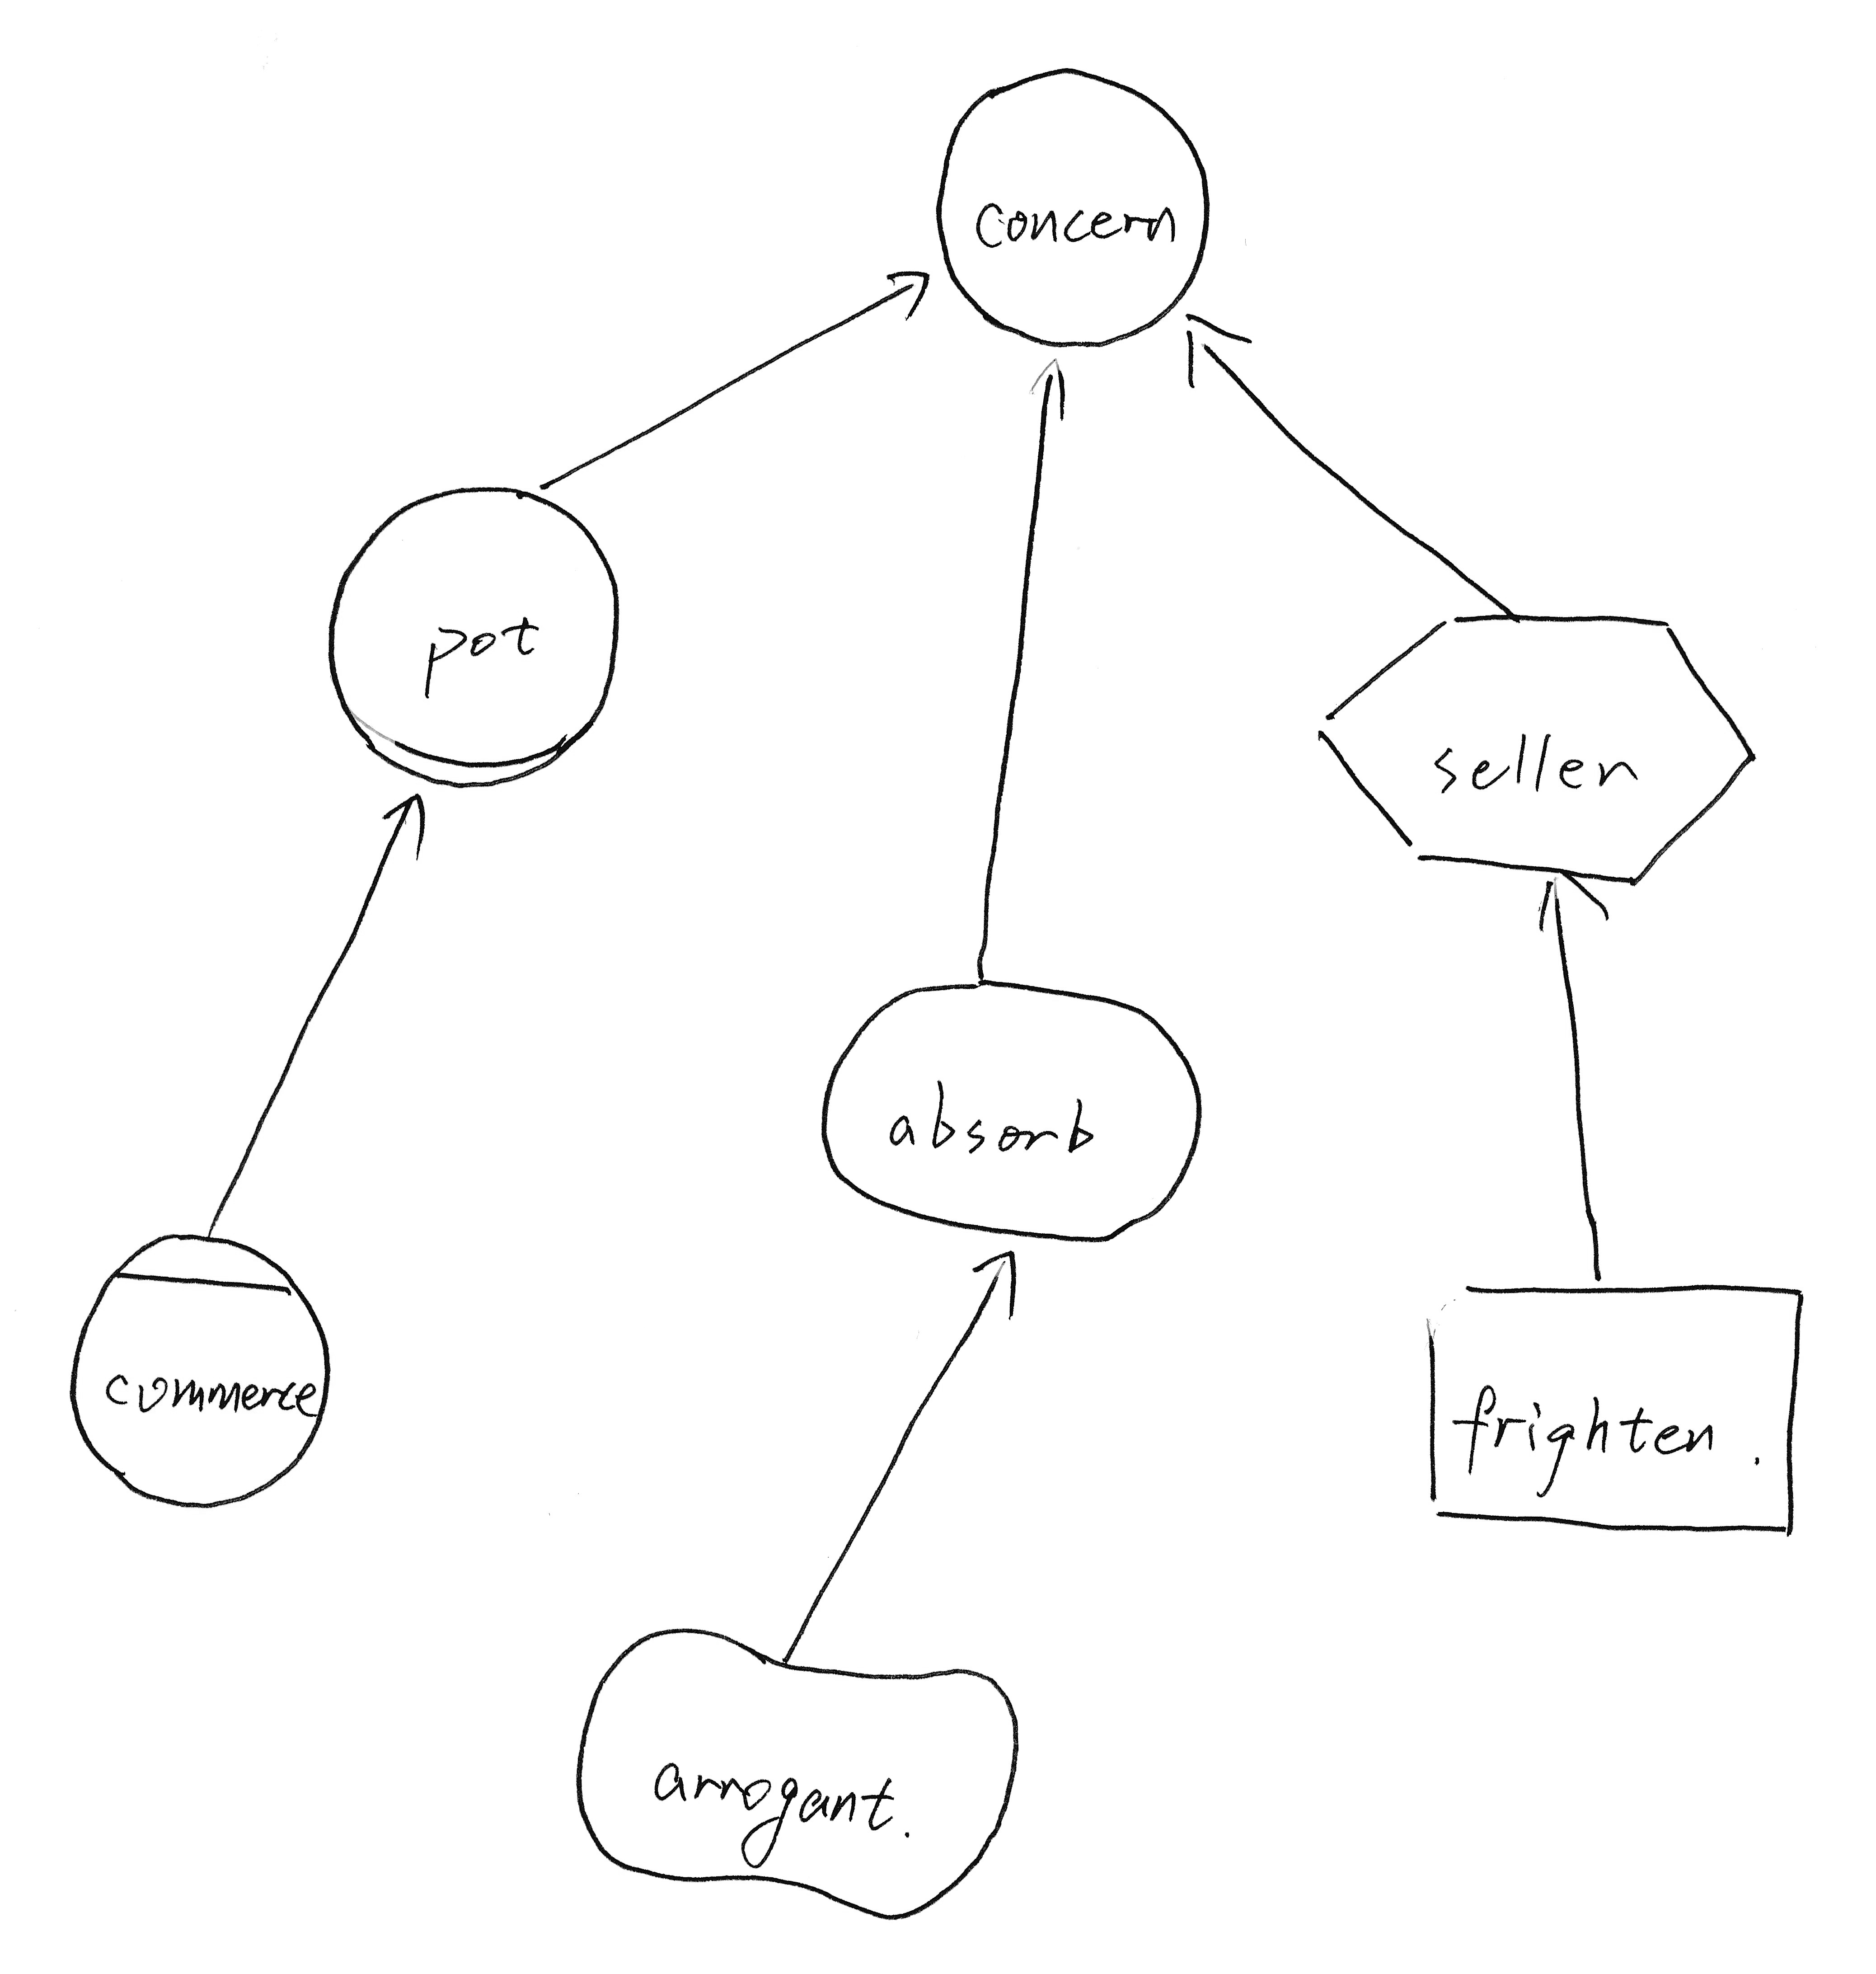actor: (925, 48, 1221, 358)
agent: (60, 1209, 356, 1518)
arrow: (1001, 345, 1101, 435), (1170, 303, 1258, 405), (941, 1243, 1038, 1327), (1520, 864, 1617, 946), (363, 786, 433, 888), (870, 247, 941, 337)
goal: (810, 962, 1222, 1260)
quality: (551, 1609, 1032, 1930)
resource: (1393, 1255, 1844, 1560)
role: (315, 472, 641, 804)
task: (1298, 592, 1774, 895)
